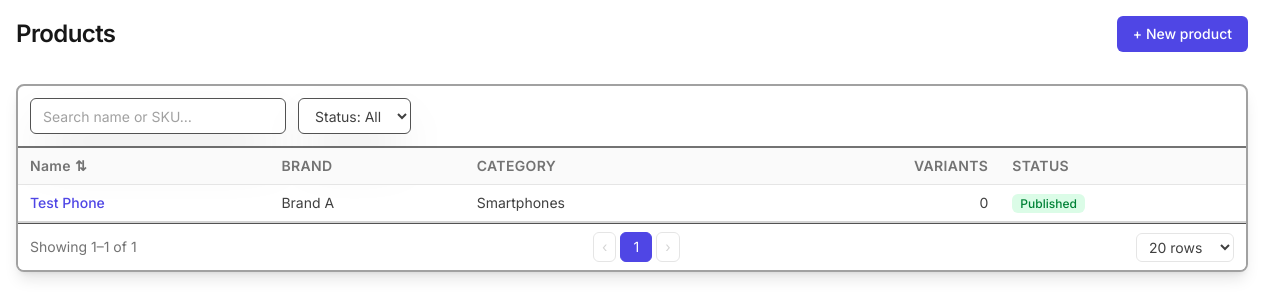
Scenario: ProductsPage › clears the status filter via 'Clear filters'
This screenshot has width=1265, height=298.
Expected: the link "Test Phone" is shown, [30, 194, 105, 211]
Select "Archived" in the 1st dropdown named "Status" at (354, 116), box [298, 98, 411, 134]
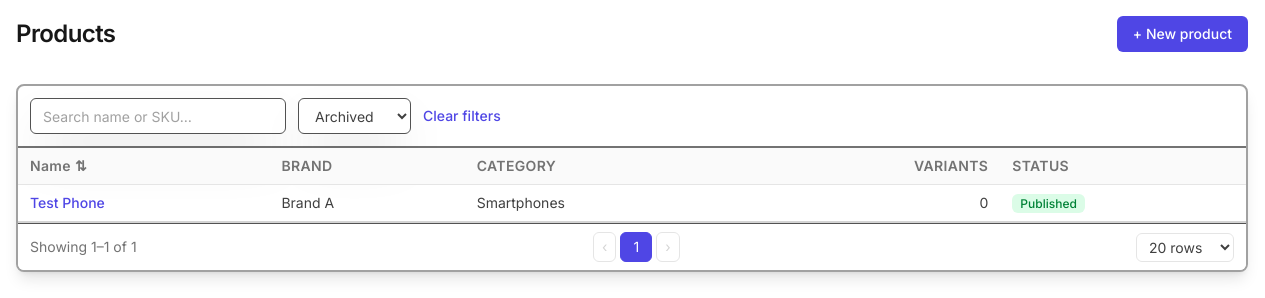
Click the button "Clear filters".
click(462, 116)  # box [423, 106, 501, 126]
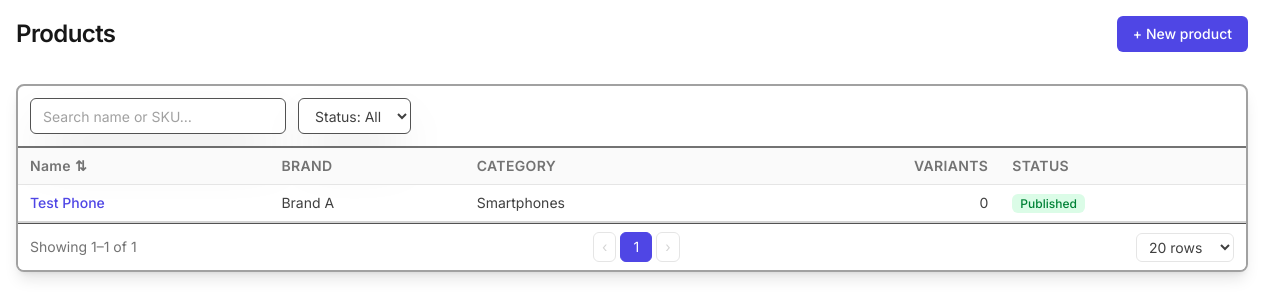
Expected: the button "Clear filters" is gone
